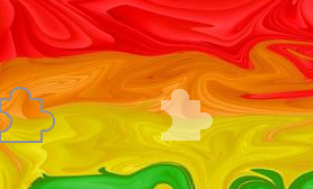target: (155, 86, 216, 145)
